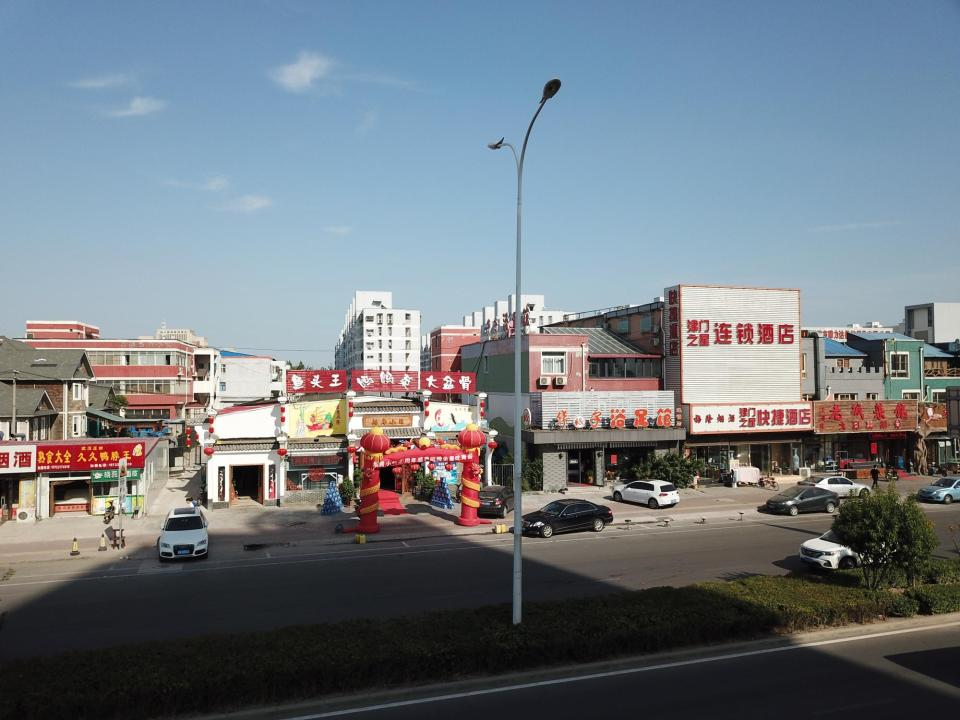car: (797, 518, 914, 568), (518, 499, 615, 538), (155, 508, 210, 560), (765, 486, 841, 515), (609, 480, 680, 509), (798, 474, 870, 501), (475, 484, 517, 517), (917, 478, 960, 503)
